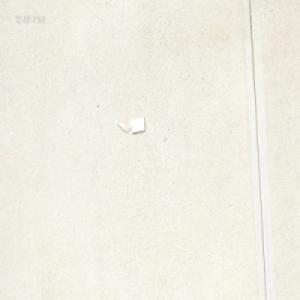LuggageTag: (115, 116, 145, 134)
